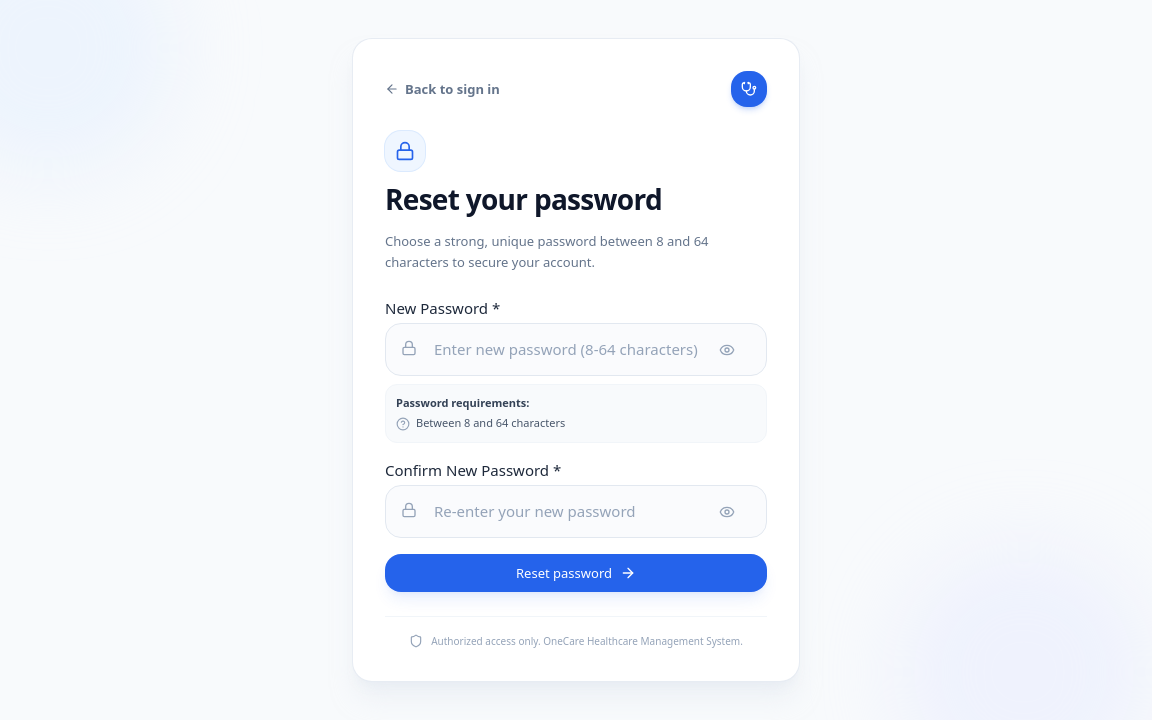
Test: ResetPasswordPage › validates password mismatch
In the password field labelled "New Password*": (576, 350) [385,323,767,376], type "SecurePassword123!"
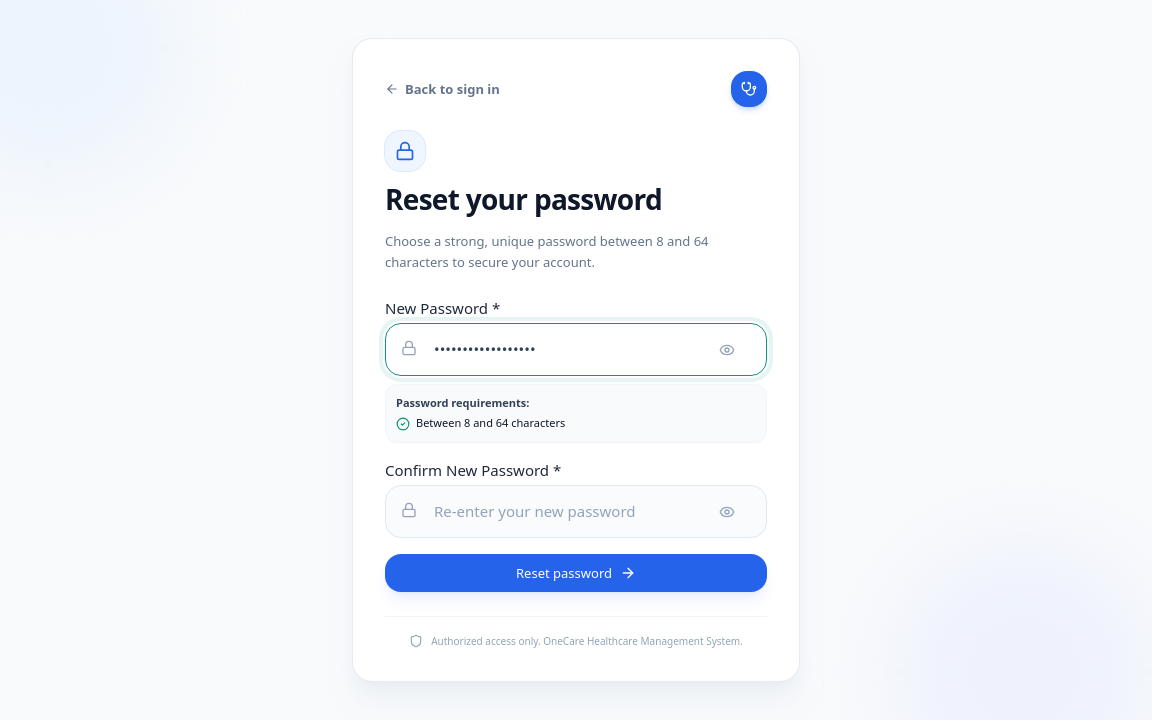
In the password field labelled "Confirm New Password*": (576, 512) [385,485,767,538], type "Different123!"
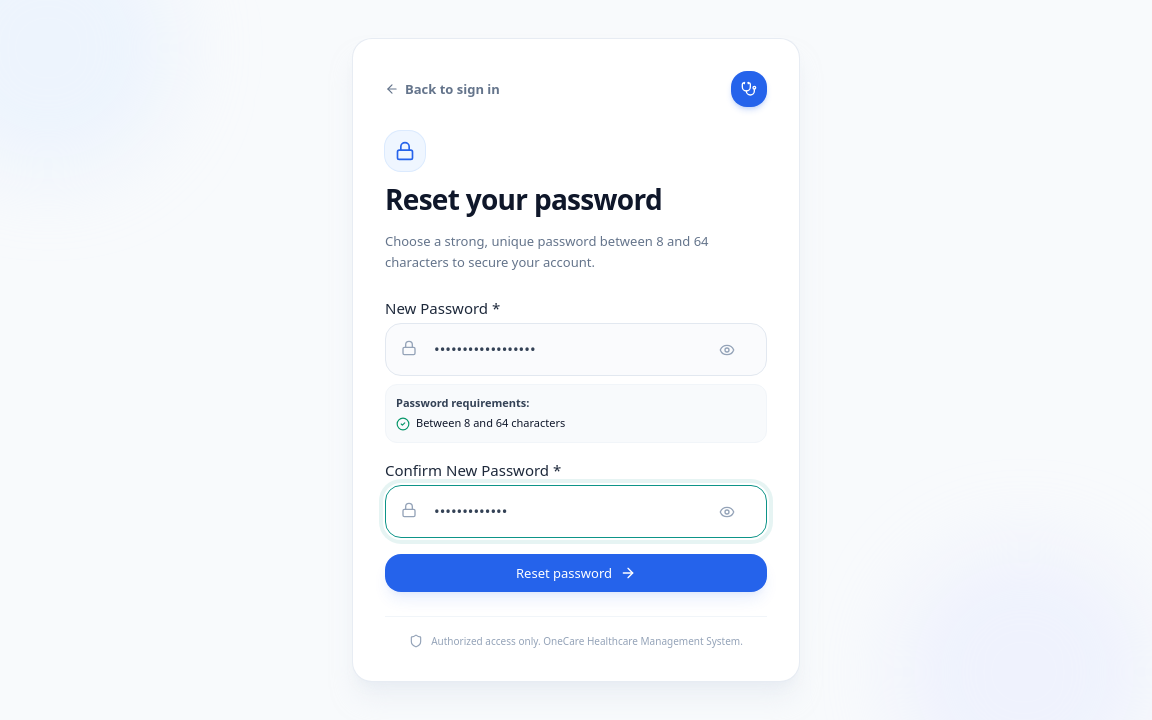
Click the button "Reset password": (576, 573) [385,554,767,592]
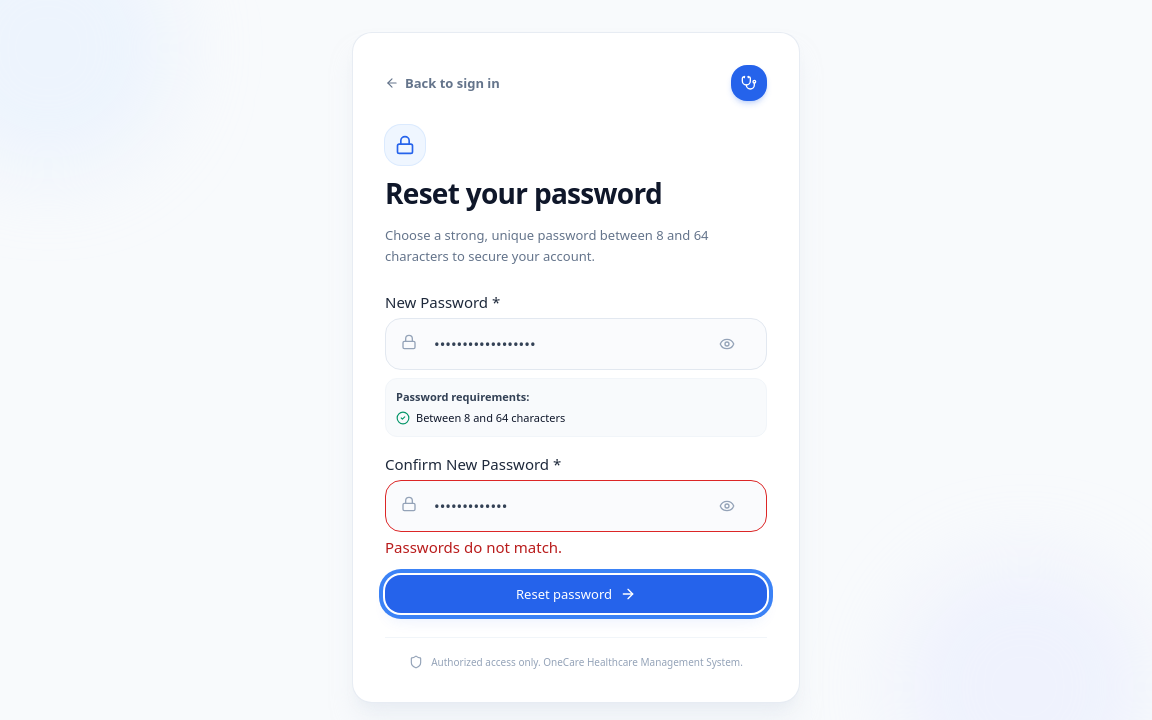
expect the text "Passwords do not match." is shown: met, box [385,537,562,557]
